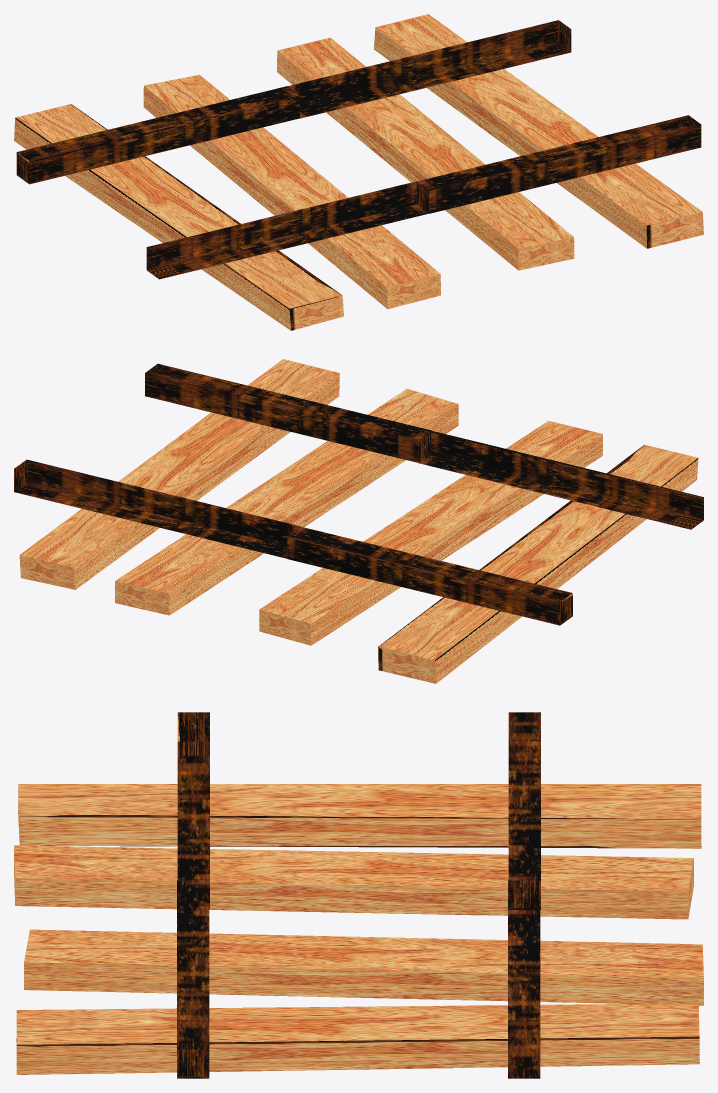
Rendered from rails.glb.
The picture shows the model from 3 angles, top to bottom: view 1: azimuth 30°, elevation 25°; view 2: azimuth 150°, elevation 25°; view 3: azimuth 270°, elevation 25°; orthographic projection. The views are drawn at different scales.
Parts seen in each view (by area): view 1: rail; view 2: rail; view 3: rail.
Part boxes in pixels (left/top/right/bottom): rail: left=14, top=14, right=703, bottom=330; rail: left=14, top=359, right=703, bottom=683; rail: left=14, top=712, right=703, bottom=1078.
Bounding box in the file's own units: 49.27 × 4.33 × 42.62.
Materials: 2 (2 with a texture image).
